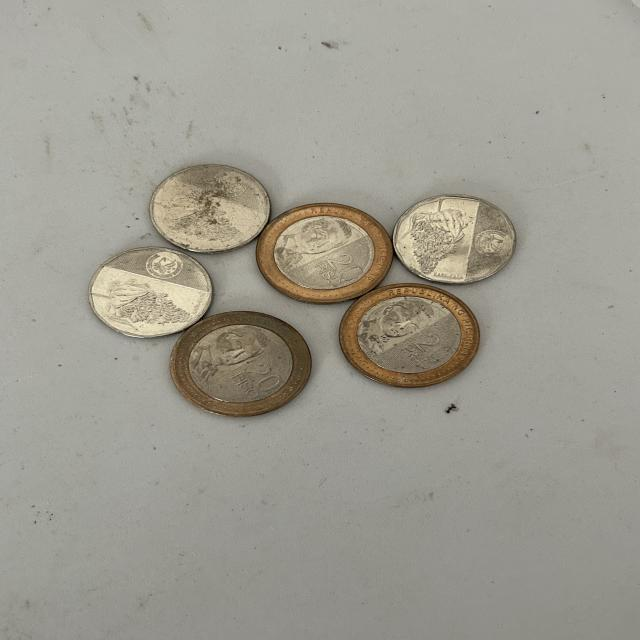10_New_Back: (393, 193, 474, 284)
20_New_Front: (309, 251, 366, 289), (232, 362, 286, 398)
